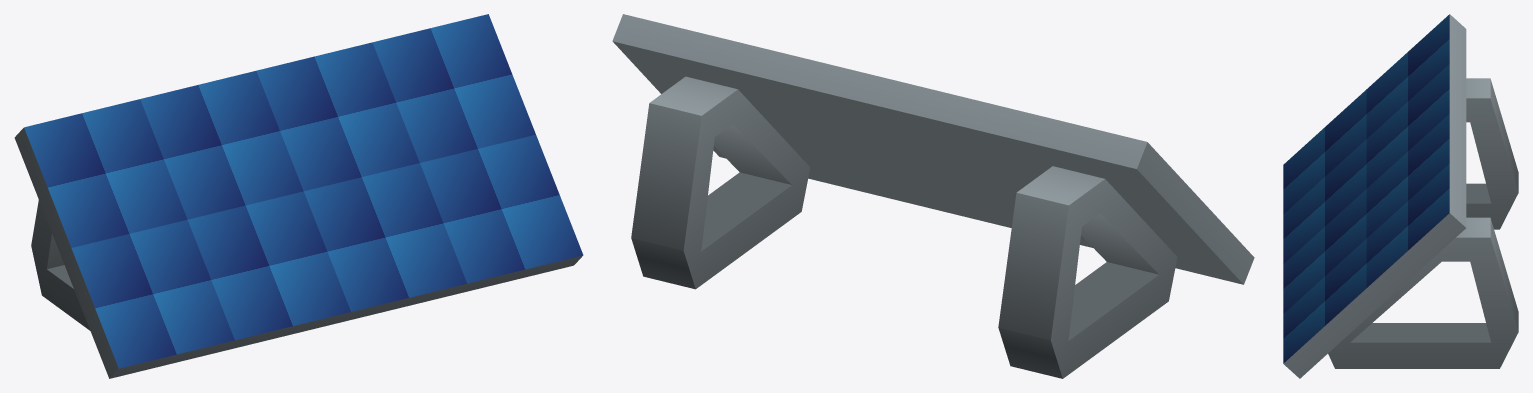
The model's file is solarpanel.glb.
The picture shows the model from 3 angles, left to right: view 1: azimuth 30°, elevation 25°; view 2: azimuth 150°, elevation 25°; view 3: azimuth 270°, elevation 25°; orthographic projection. The views are drawn at different scales.
Parts seen in each view (by area): view 1: solarpanel; view 2: solarpanel; view 3: solarpanel.
Boxes of the visible parts, box(x1,y1,x2,y2) form: solarpanel: box(14, 14, 583, 378); solarpanel: box(612, 14, 1254, 378); solarpanel: box(1283, 14, 1518, 378).
Bounding box in the file's own units: 0.9 × 0.3709 × 0.45.
Materials: 1 (1 with a texture image).
